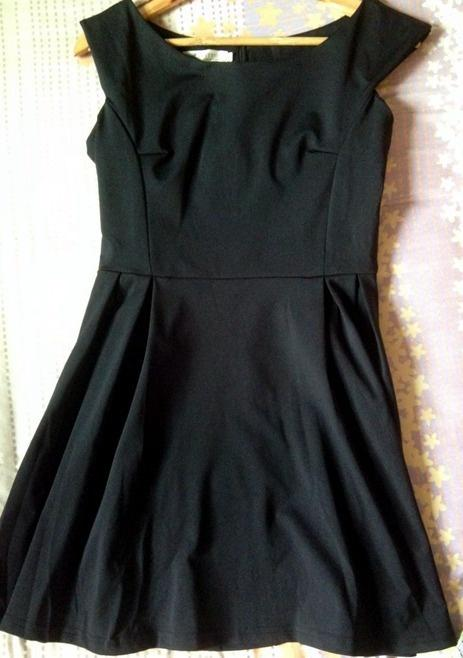S_dress: (2, 1, 462, 658)
